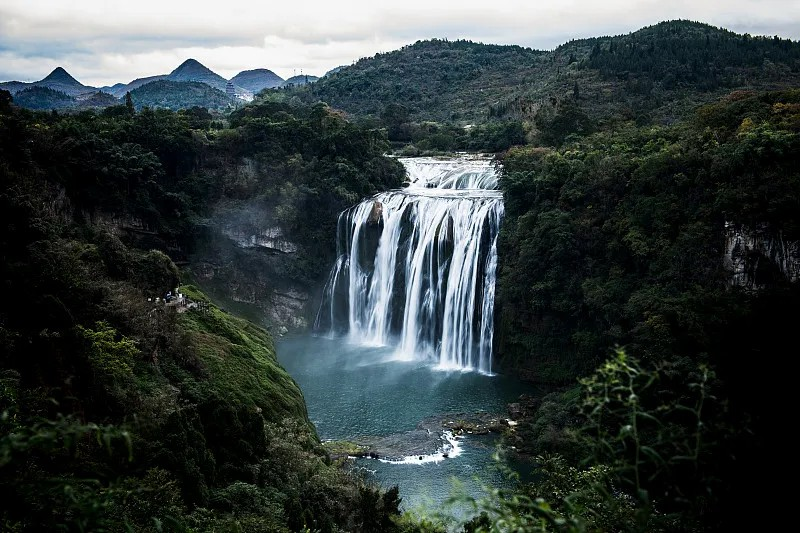Huangguoshu: (324, 155, 503, 374)
